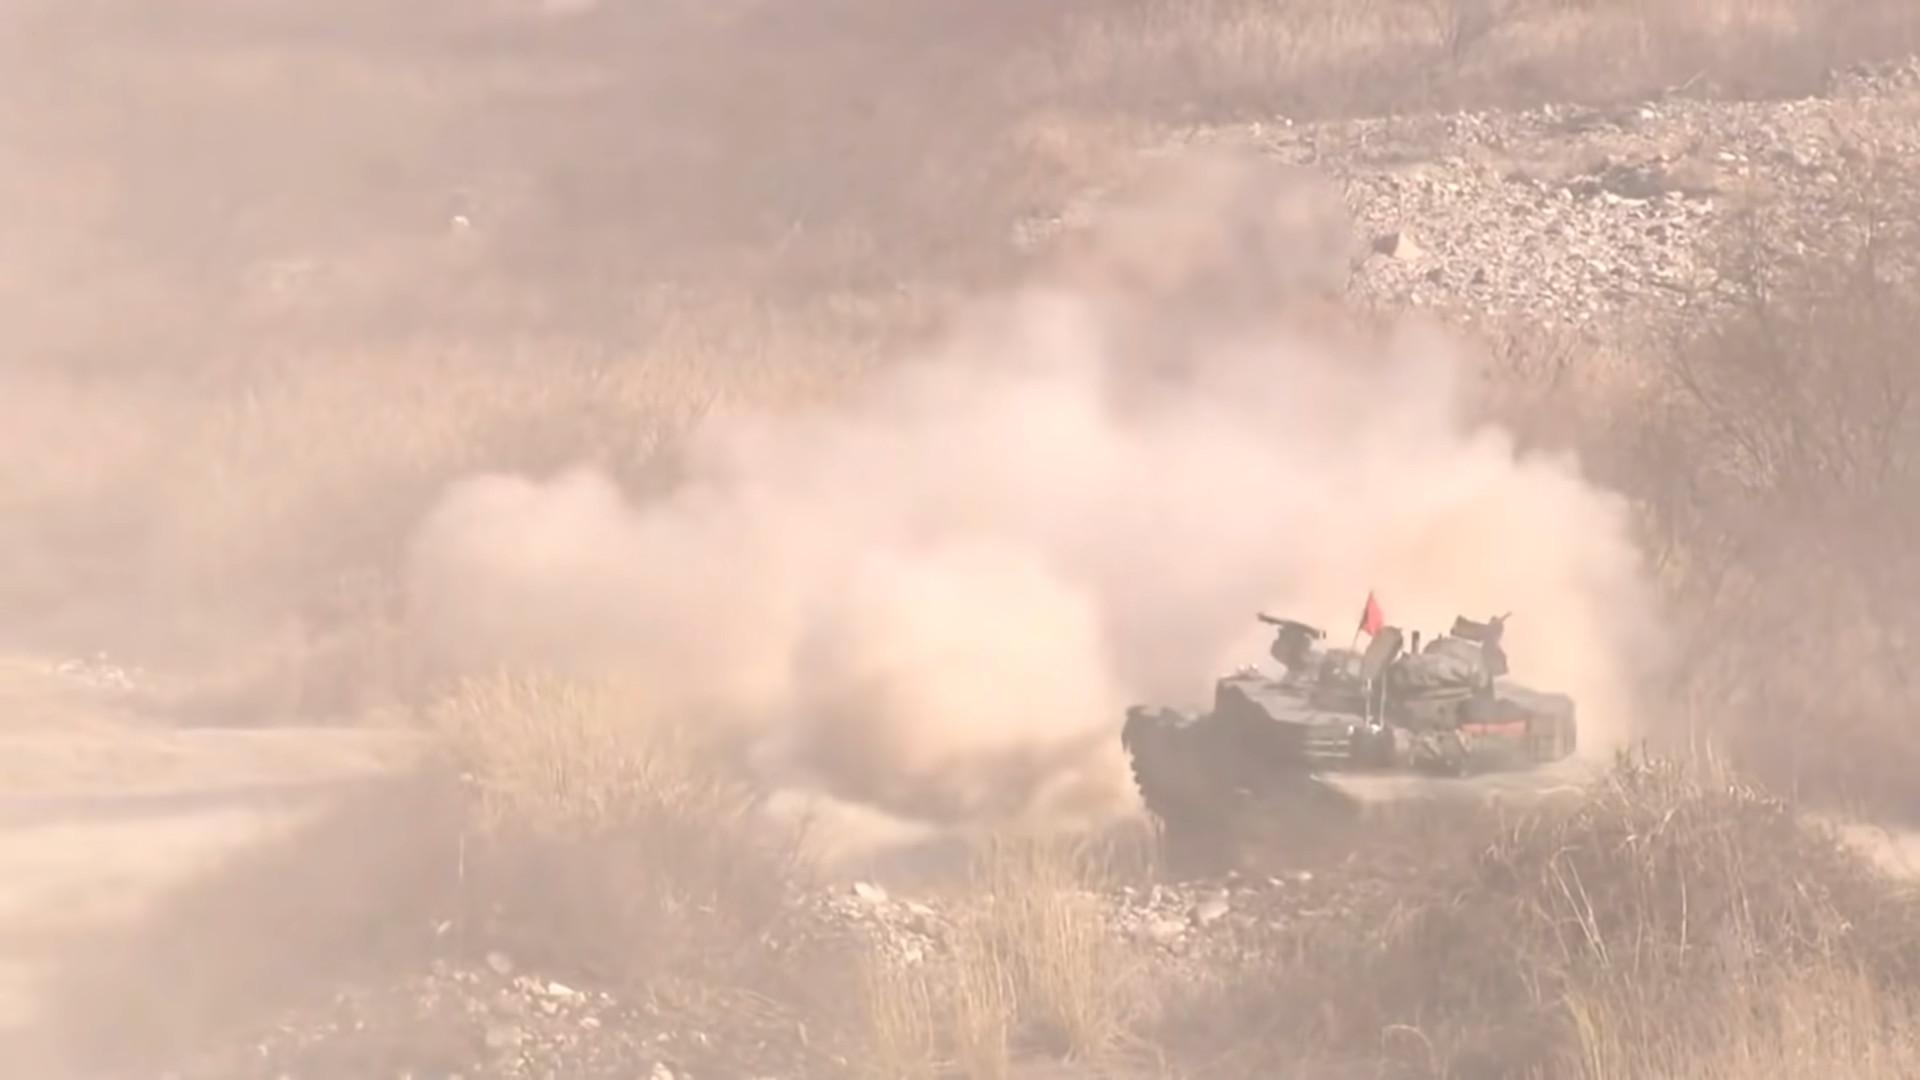tank: (1124, 612, 1614, 872)
